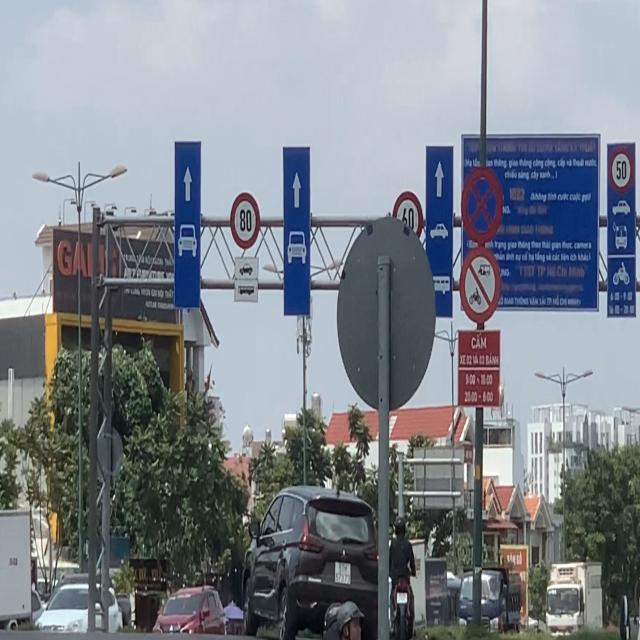Cam con lai: (459, 247, 500, 325)
Cam dung va do: (459, 164, 504, 245)
Toc do toi da: (231, 191, 260, 251), (392, 191, 423, 241), (606, 146, 634, 193)
